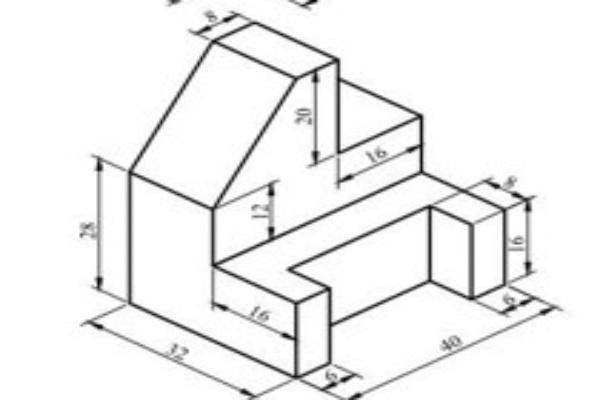dimensions: (158, 338, 199, 366), (358, 140, 396, 167), (244, 300, 278, 329), (70, 213, 101, 242), (289, 99, 318, 129), (433, 332, 470, 352), (245, 199, 272, 224), (497, 287, 520, 313), (506, 231, 527, 257), (196, 8, 225, 26), (320, 365, 341, 384)
